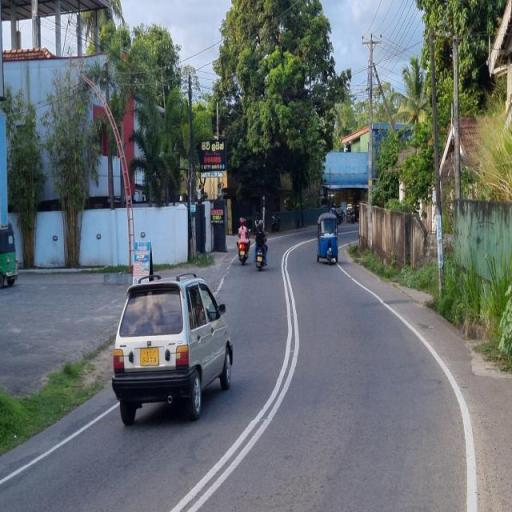double_white_line: (170, 234, 302, 510), (0, 397, 116, 486)
